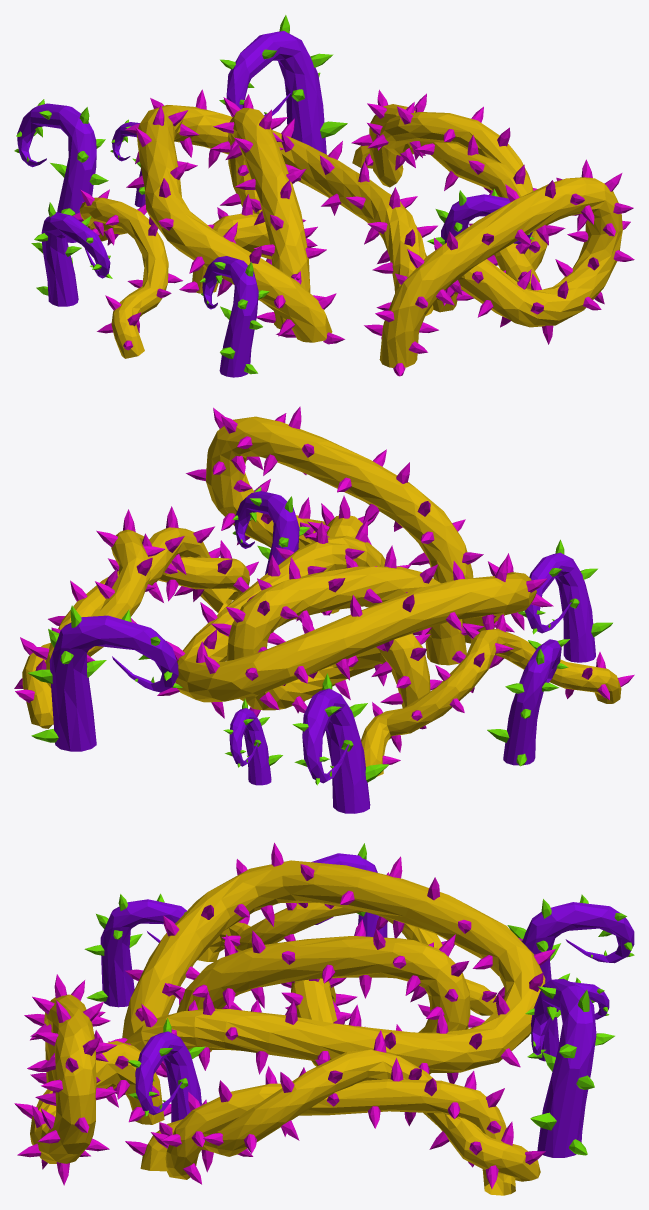
The model's file is BrambleLowPoly.fbx.
3 views of the same model, one above another, from view 1: azimuth 30°, elevation 25°; view 2: azimuth 150°, elevation 25°; view 3: azimuth 270°, elevation 25° (orthographic). The views are drawn at different scales.
Parts seen in each view (by area): view 1: Bramble1; view 2: Bramble1; view 3: Bramble1.
Boxes of the visible parts, x1,y1,x2,y2 form: Bramble1: (14, 15, 634, 377); Bramble1: (14, 406, 634, 813); Bramble1: (14, 842, 634, 1195).
Bounding box in the file's own units: 15.05 × 5 × 15.45.
